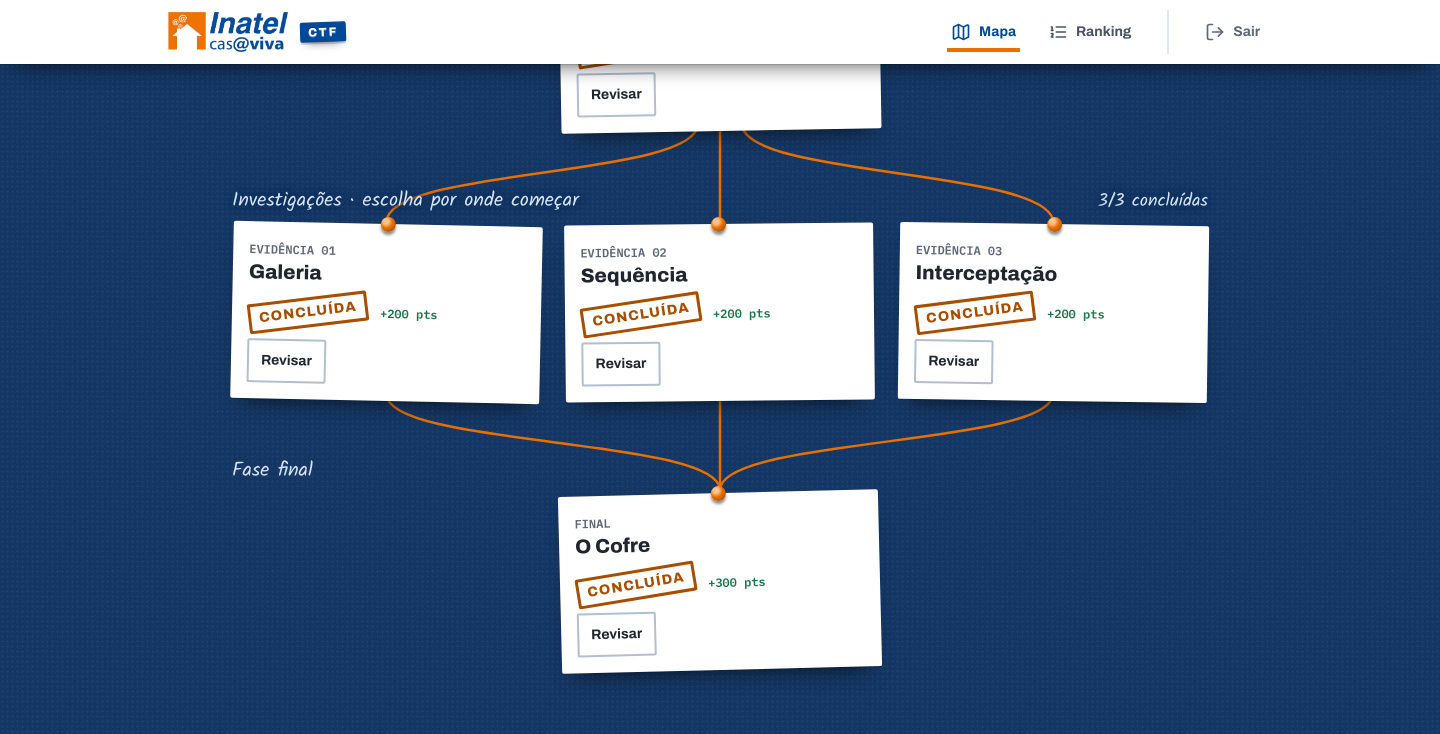
Test: one official attempt per player › keeps the official score when a finished stage is opened again
(page scrolled)
Click the link "Revisar O Cofre" at (617, 635), box [577,612,657,658]
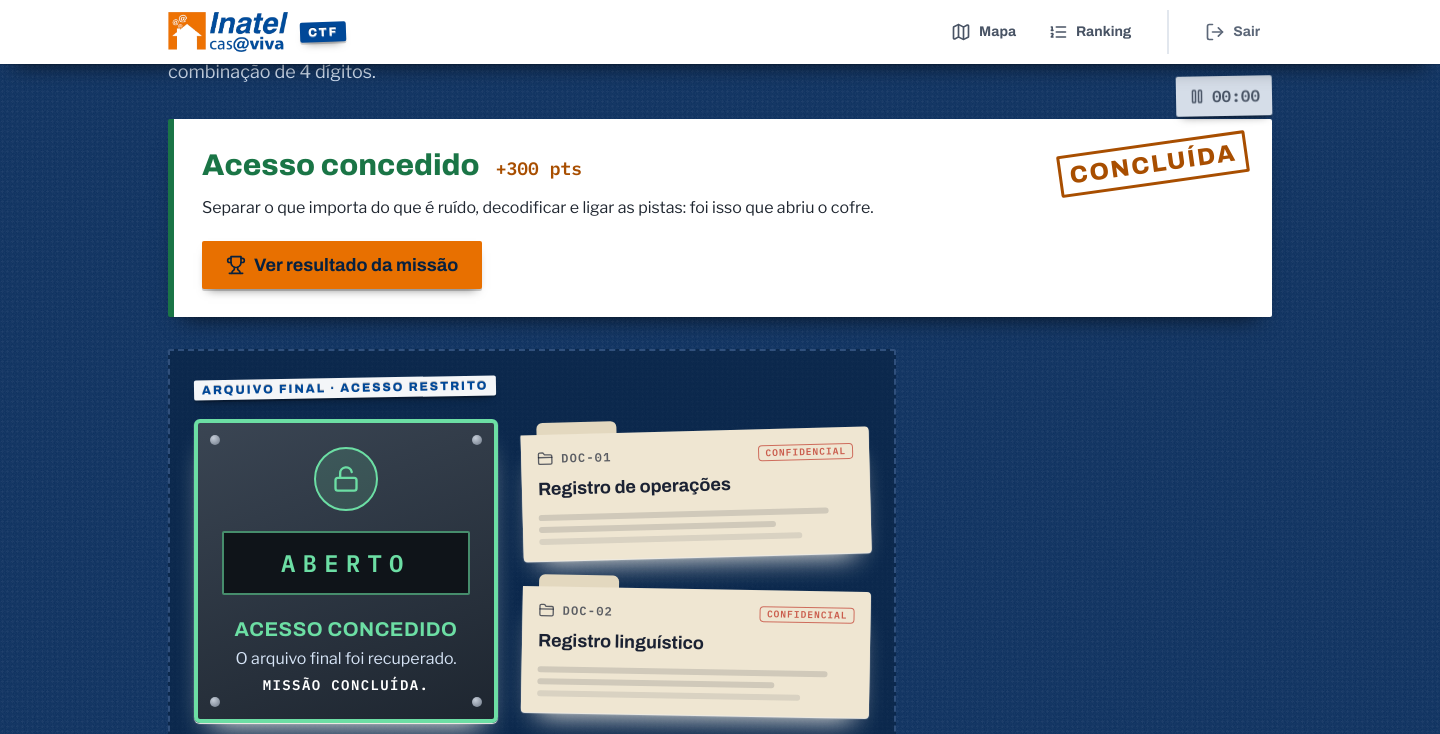
Check: the heading "Acesso concedido" is shown, box [202,146,480,182]
